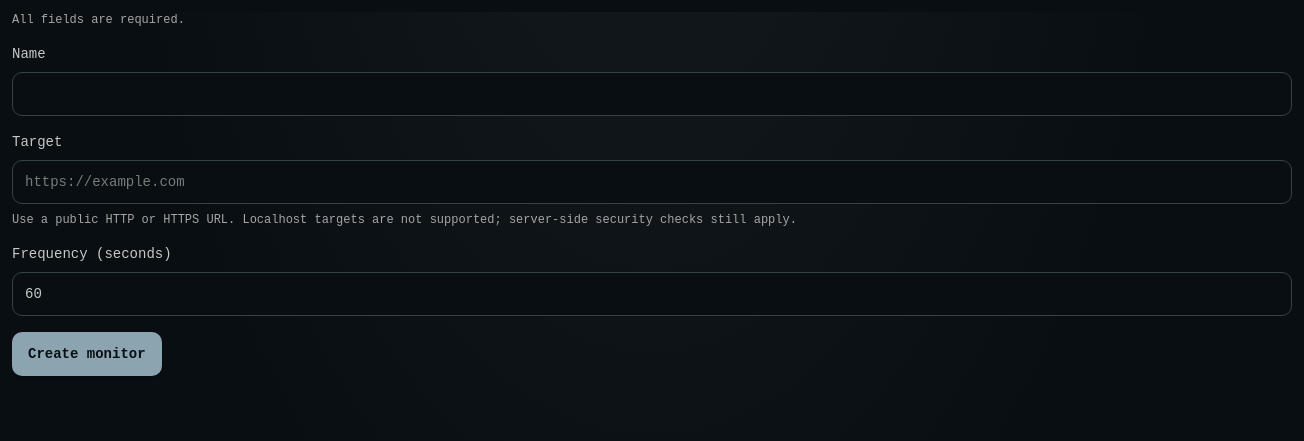
CreateMonitorForm › rejects an empty name without posting
In the field labelled "Target": (652, 182) [12,160,1292,204], type "https://ok.example.com"
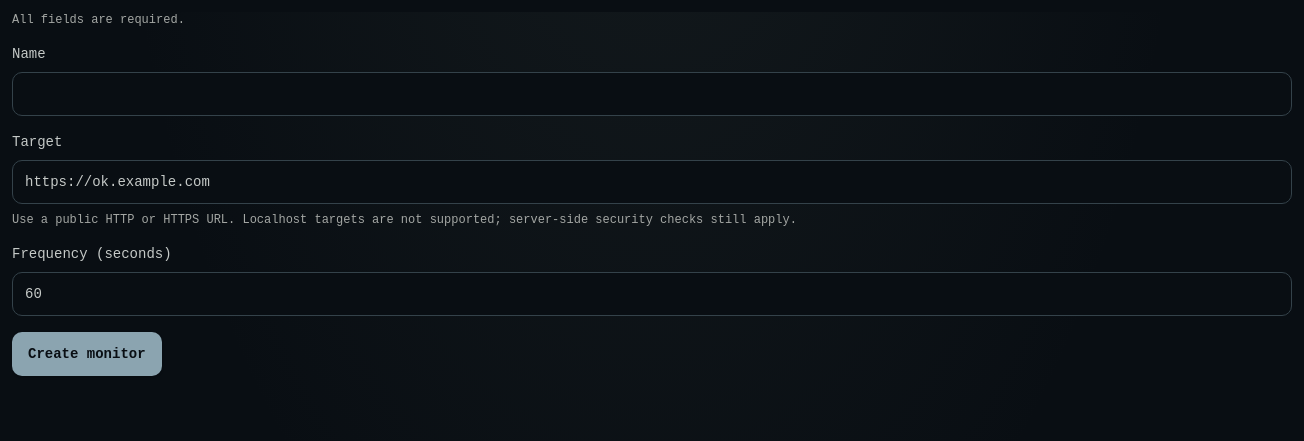
Click the button "Create monitor": click(87, 354) [12,332,162,376]
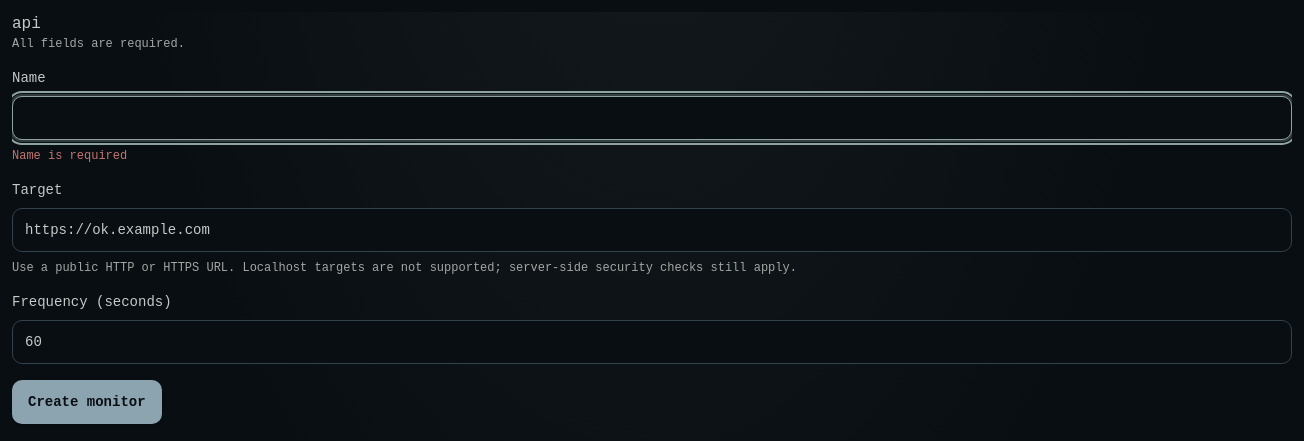
Result: the text "Name is required" is shown at [12,149,127,163]
